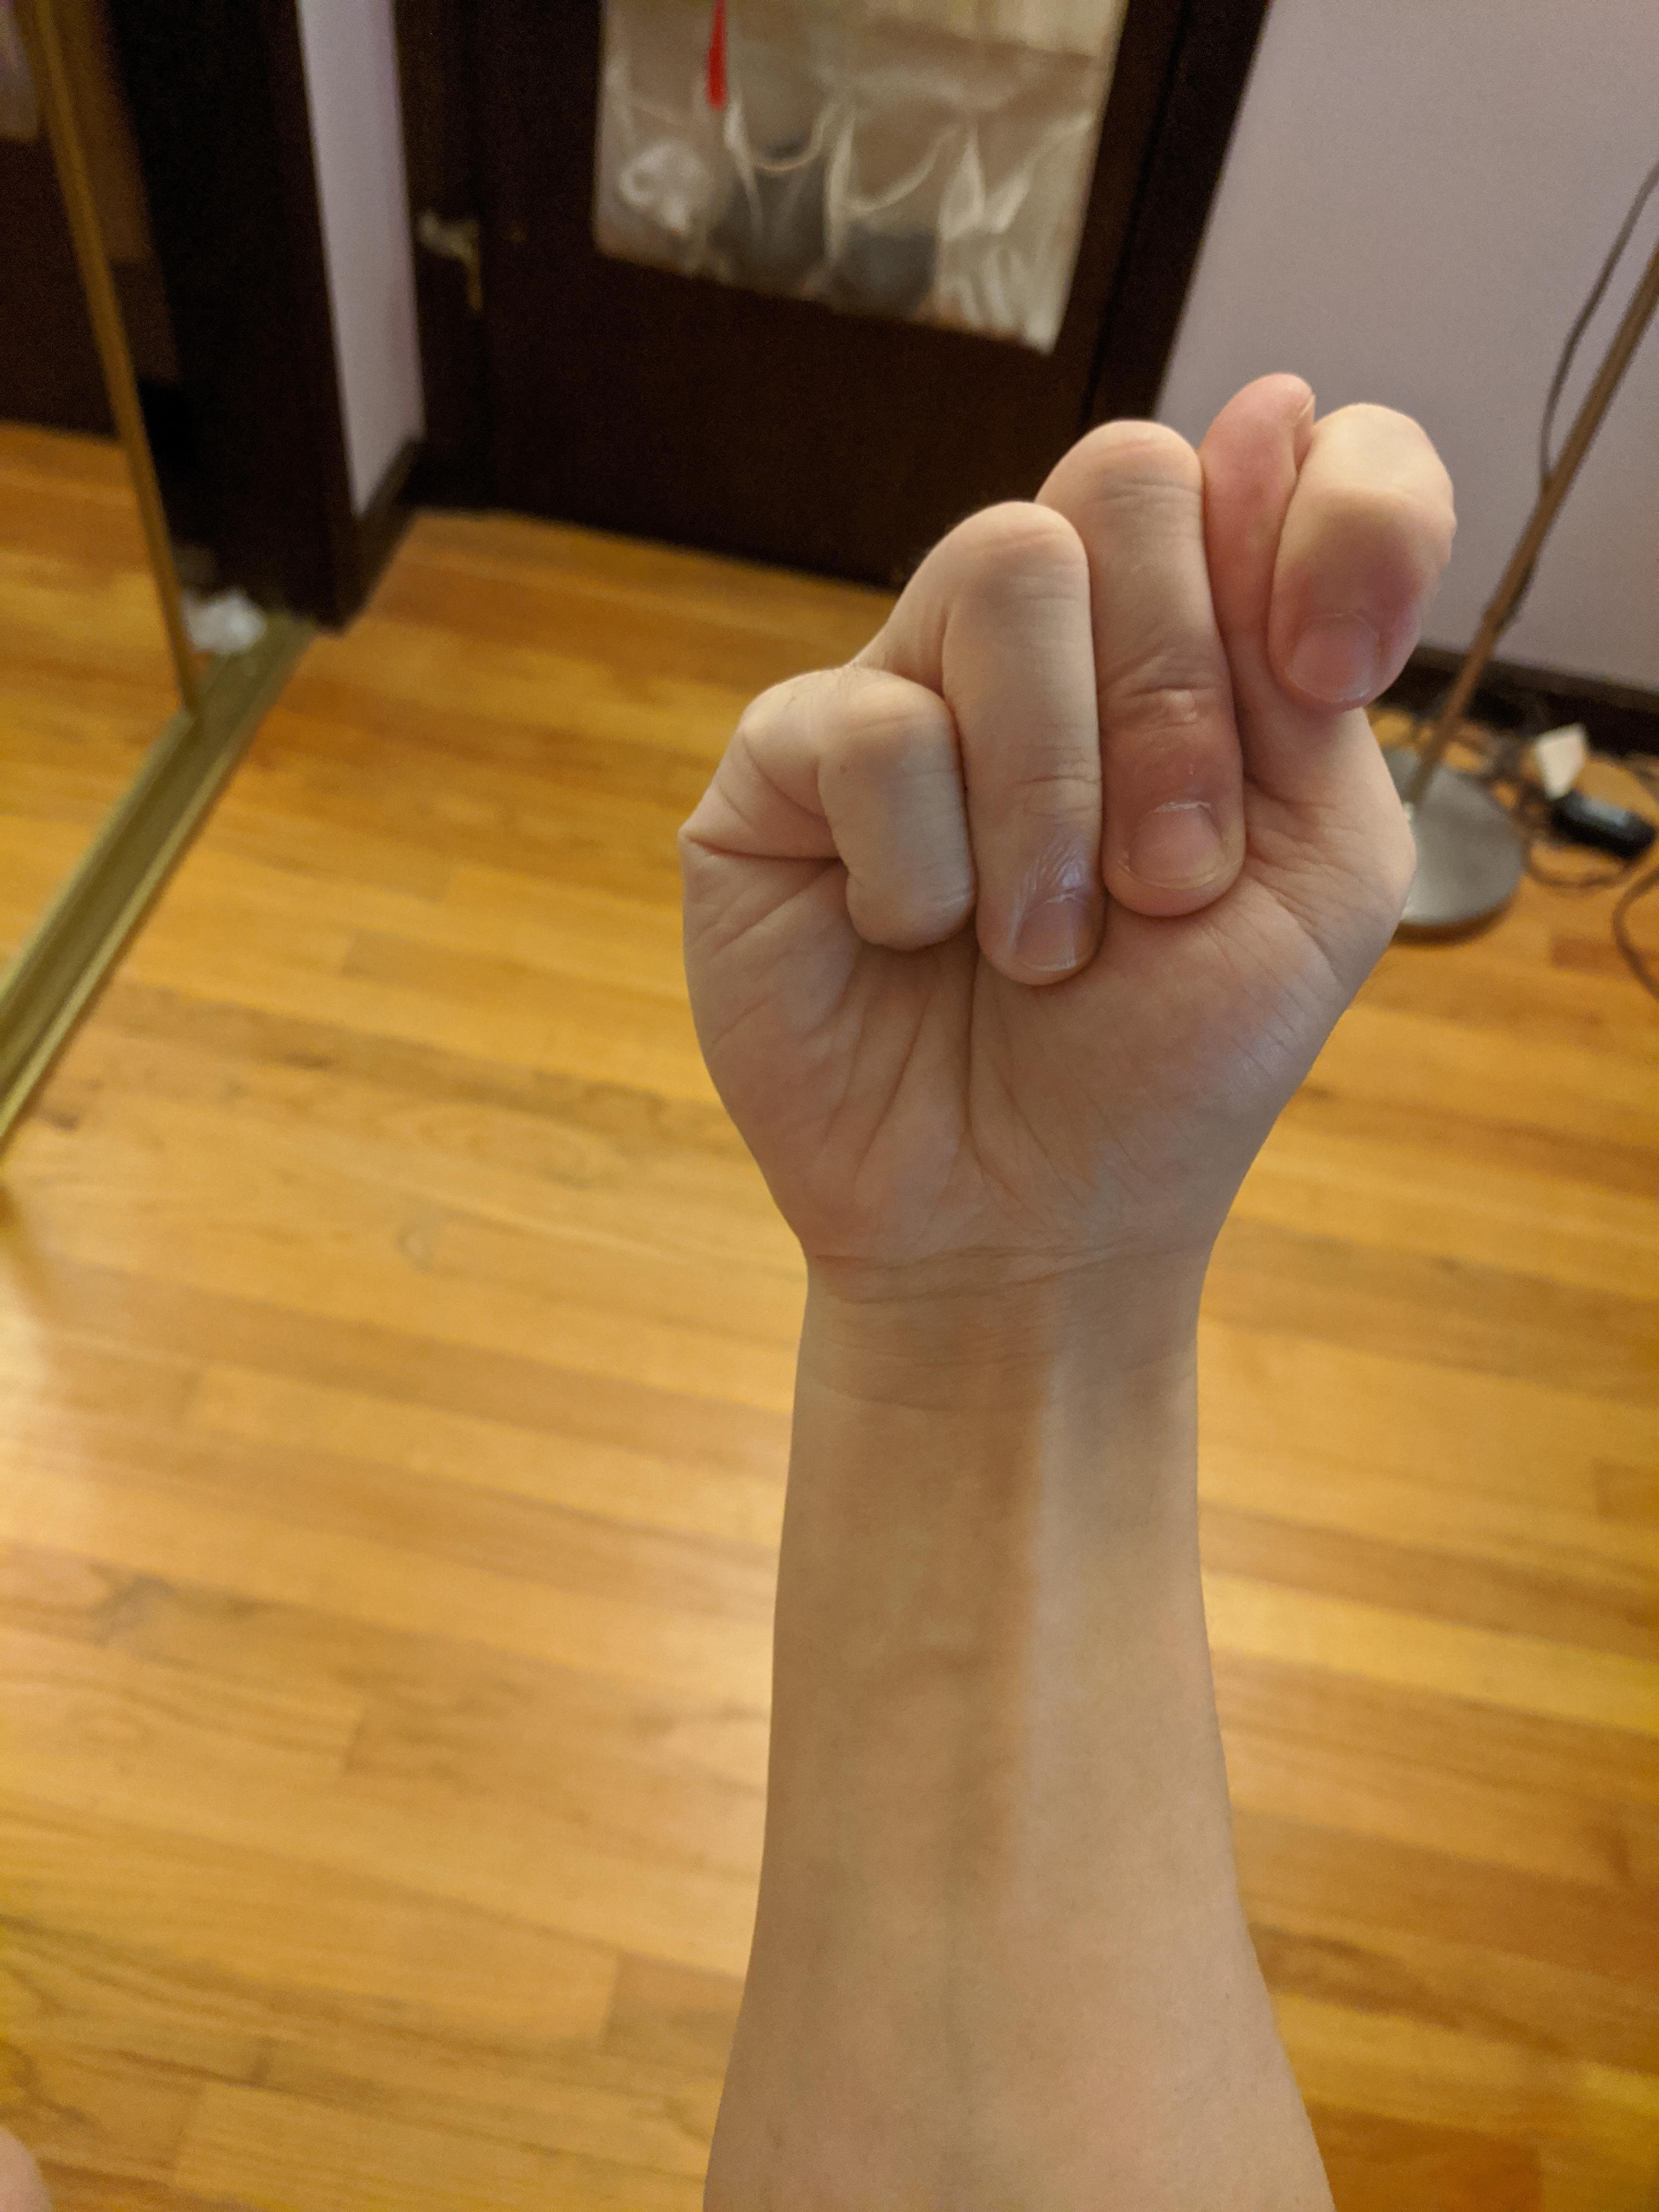T: (656, 352, 1480, 1323)
